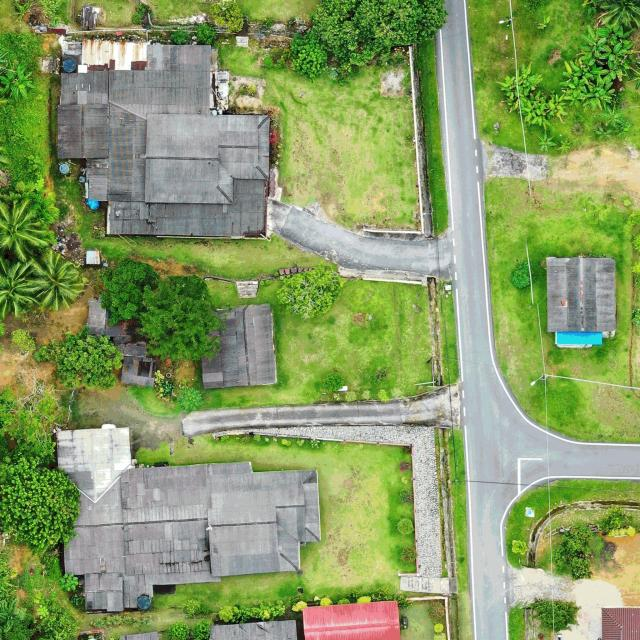Tree: (309, 0, 449, 68), (0, 451, 81, 552), (138, 276, 224, 362), (0, 367, 65, 460), (36, 328, 124, 392), (276, 258, 342, 322), (99, 257, 158, 325), (27, 250, 88, 312), (0, 197, 57, 262), (550, 522, 606, 582), (0, 254, 39, 318), (289, 30, 330, 82), (532, 598, 580, 635), (580, 76, 617, 112), (1, 62, 36, 100), (563, 57, 599, 93), (599, 0, 640, 30), (209, 0, 245, 34), (518, 91, 550, 128), (596, 25, 635, 52), (580, 25, 608, 59), (516, 61, 542, 97), (494, 75, 523, 100), (177, 387, 203, 413), (10, 327, 36, 353), (600, 44, 628, 68), (509, 263, 532, 290), (600, 104, 625, 127), (544, 94, 568, 117), (536, 130, 557, 156), (194, 21, 217, 44), (60, 571, 80, 593), (613, 119, 632, 140), (510, 538, 530, 556)
